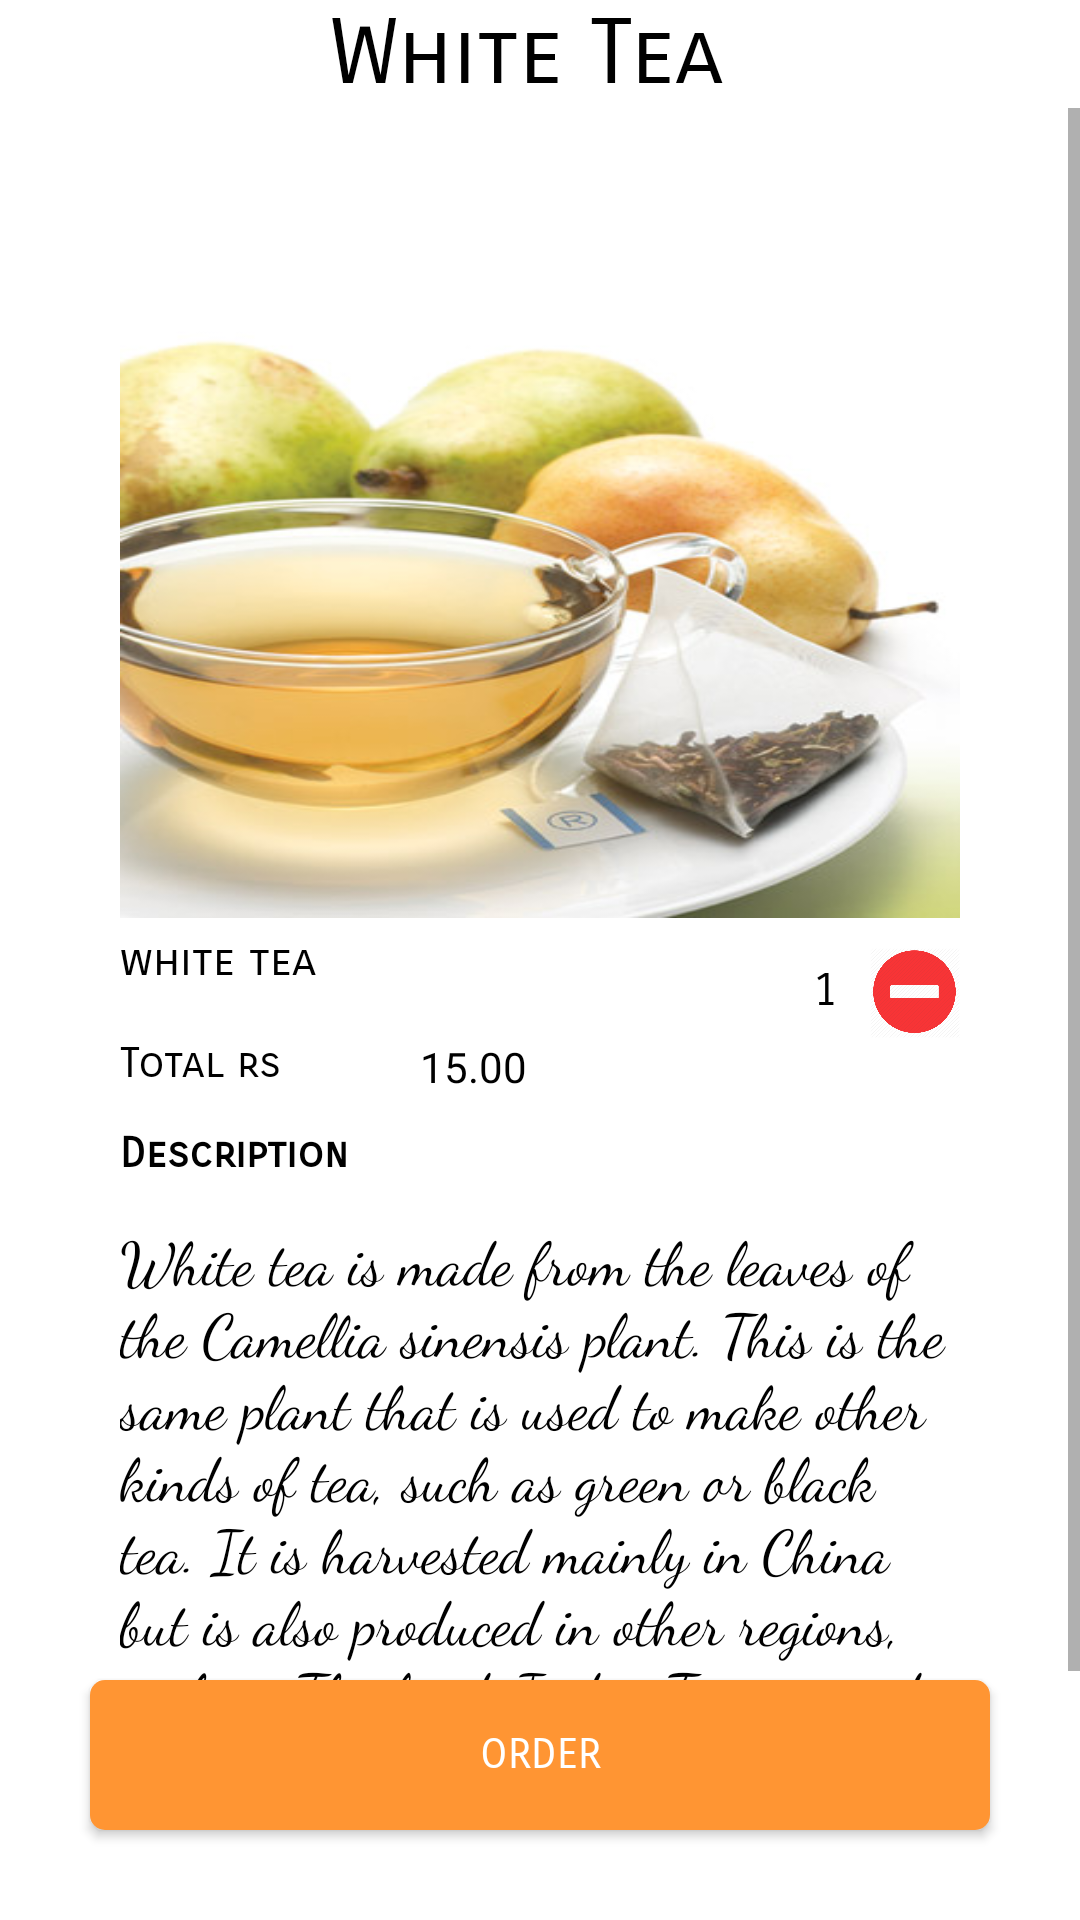

Icon bounding boxes for this 1080 × 1920 phone screenshot, format region(x1, y1, x2, y2):
minus: region(873, 950, 956, 1033)
